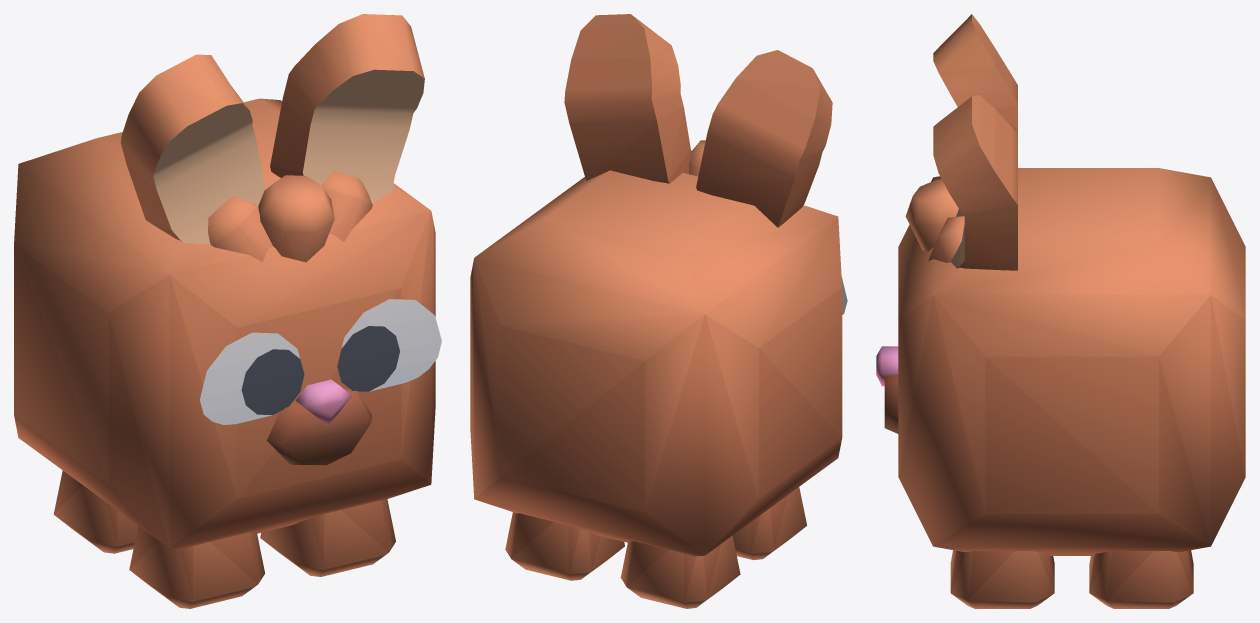
Rendered from animal-bunny.obj.
The picture shows the model from 3 angles, left to right: view 1: azimuth 30°, elevation 25°; view 2: azimuth 150°, elevation 25°; view 3: azimuth 270°, elevation 25°; orthographic projection. The views are drawn at different scales.
Bounding box in the file's own units: 1.25 × 2.01 × 1.33.
